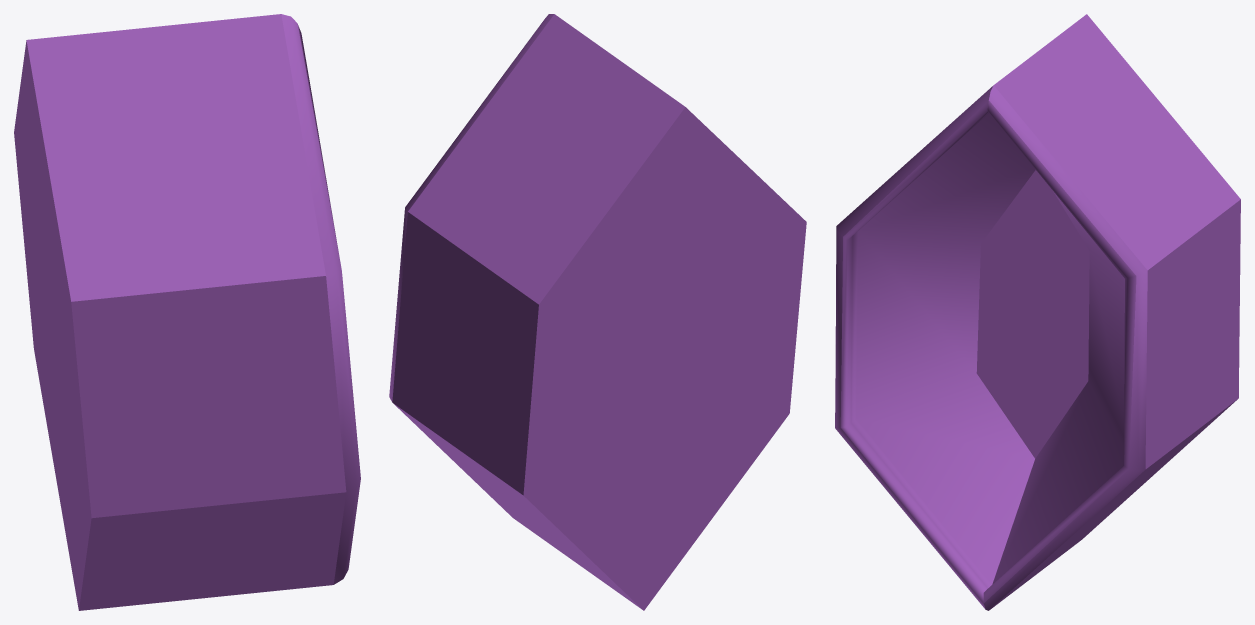
Rendered from BR5_8shapes_Hex_Classic_Metal.001 2.glb.
The picture shows the model from 3 angles, left to right: view 1: azimuth 30°, elevation 25°; view 2: azimuth 150°, elevation 25°; view 3: azimuth 270°, elevation 25°; orthographic projection. The views are drawn at different scales.
Visible parts, largest first — view 1: BR5_8shapes_Hex_Classic_Metal.001; view 2: BR5_8shapes_Hex_Classic_Metal.001; view 3: BR5_8shapes_Hex_Classic_Metal.001.
Boxes of the visible parts, x1,y1,x2,y2 form: BR5_8shapes_Hex_Classic_Metal.001: (14,14,360,610); BR5_8shapes_Hex_Classic_Metal.001: (389,14,806,610); BR5_8shapes_Hex_Classic_Metal.001: (835,14,1240,610).
Size of the model in its own units: 0.449 by 0.7294 by 0.5173.
